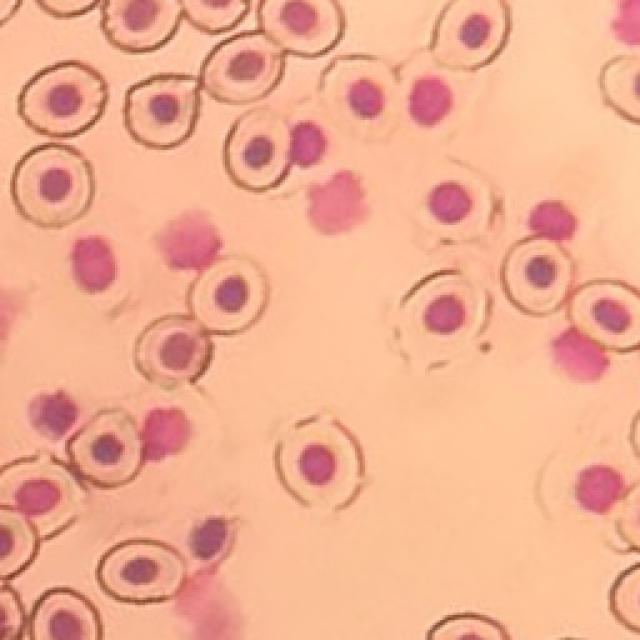RBC: (395, 269, 489, 371), (275, 414, 364, 510), (397, 50, 479, 144), (0, 451, 85, 539), (11, 144, 94, 226), (19, 61, 106, 136), (415, 159, 494, 241), (320, 55, 396, 140), (190, 258, 268, 333), (68, 409, 142, 487), (201, 32, 282, 102), (431, 0, 511, 70), (98, 539, 185, 602), (125, 74, 199, 148), (224, 109, 290, 191), (135, 315, 211, 386), (501, 238, 571, 315), (569, 280, 640, 351), (260, 0, 344, 56), (102, 0, 181, 51), (30, 588, 101, 640), (600, 56, 640, 123), (426, 612, 510, 640), (182, 0, 249, 32)
WBC: (159, 212, 222, 271), (309, 171, 368, 234), (552, 328, 609, 381), (141, 408, 190, 461), (71, 236, 116, 292), (29, 390, 79, 439), (576, 465, 625, 512), (530, 201, 575, 241), (290, 121, 326, 166), (191, 518, 228, 559)
